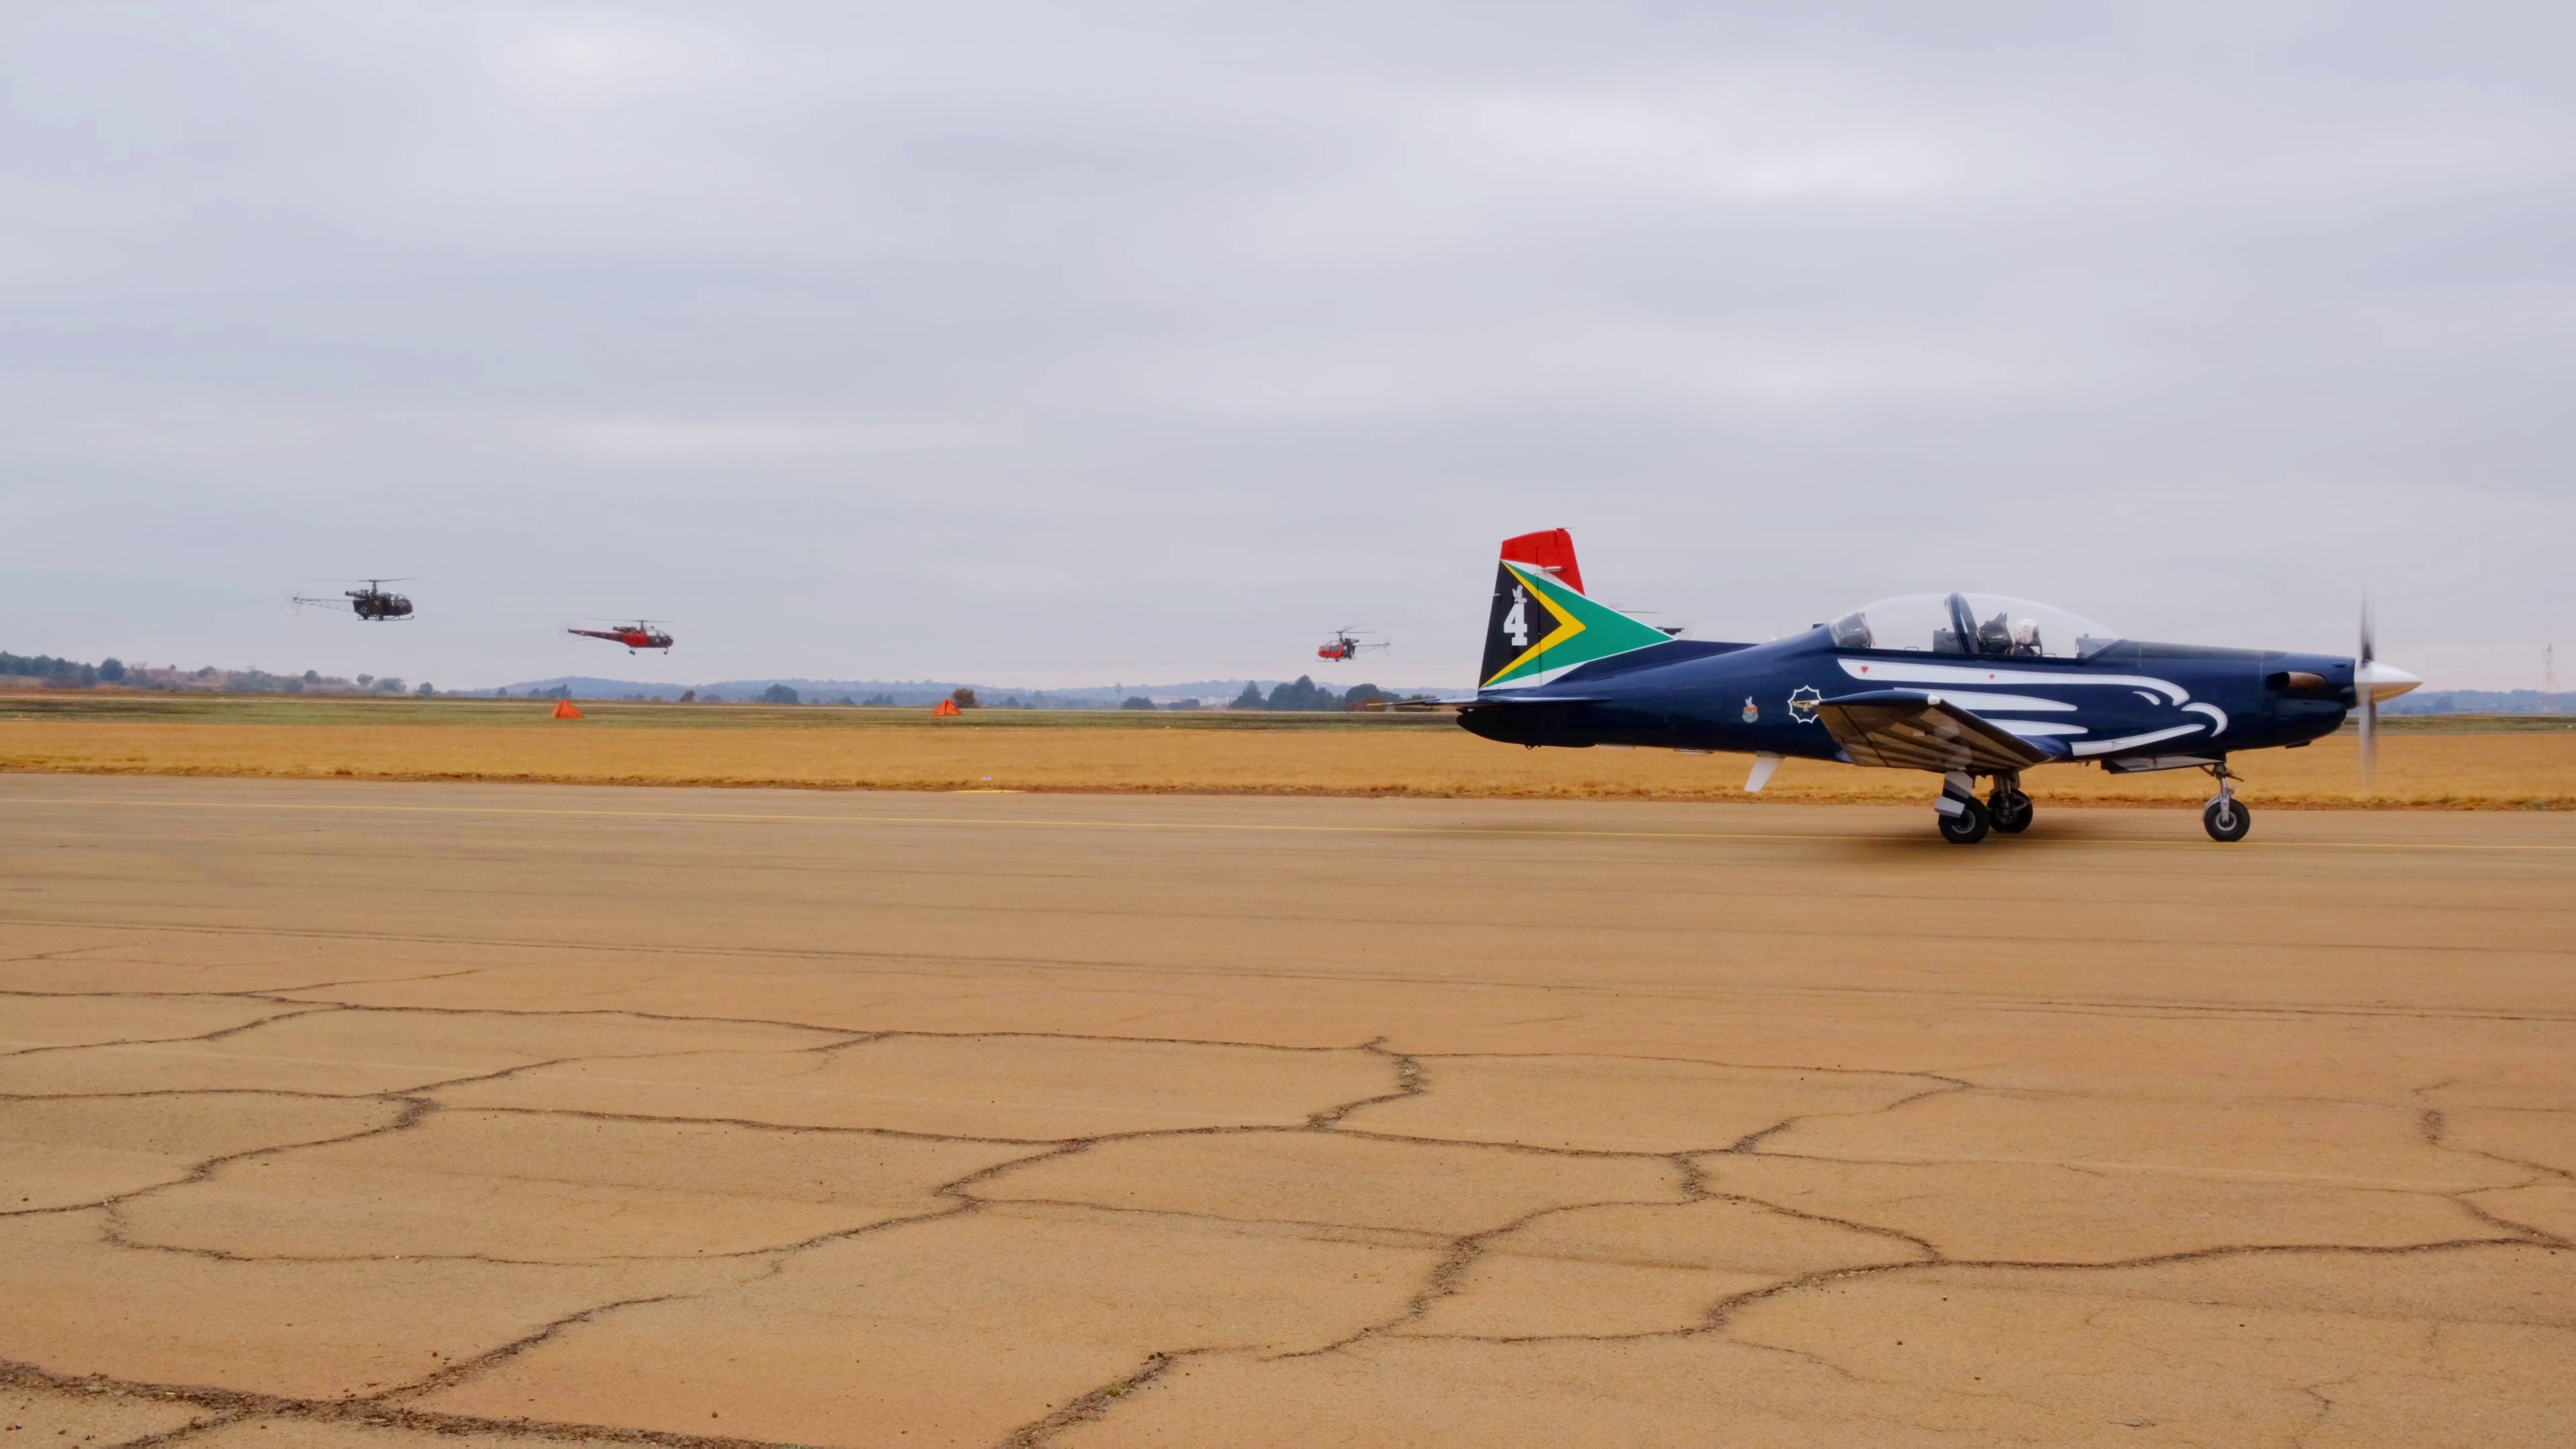heli: (292, 575, 419, 621), (566, 616, 678, 655), (1315, 626, 1394, 663)
plane: (1454, 525, 2420, 844)
